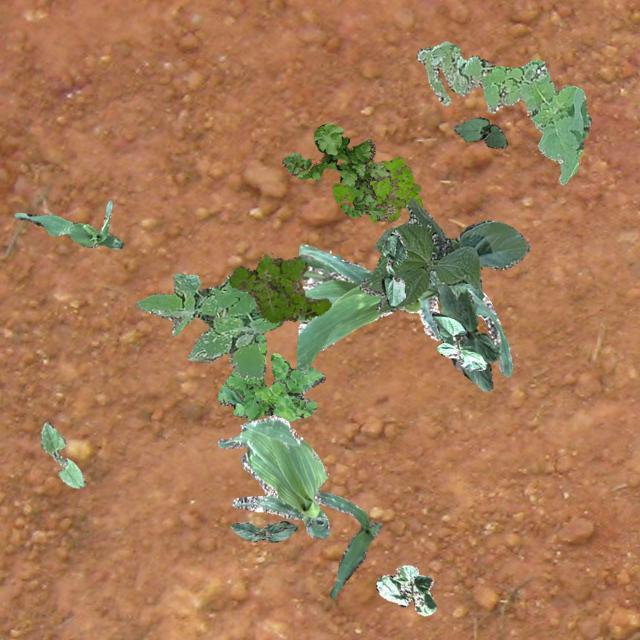crop: (296, 244, 512, 376), (358, 196, 528, 312), (216, 414, 328, 536), (434, 272, 500, 390), (316, 490, 380, 598), (13, 198, 122, 248), (430, 312, 486, 369), (374, 564, 436, 614), (40, 421, 84, 486), (380, 230, 406, 306), (452, 118, 506, 148), (228, 520, 296, 542)
weed: (416, 40, 590, 184), (134, 272, 282, 378), (216, 302, 324, 421), (282, 122, 394, 220), (228, 252, 330, 322), (332, 156, 422, 222)
